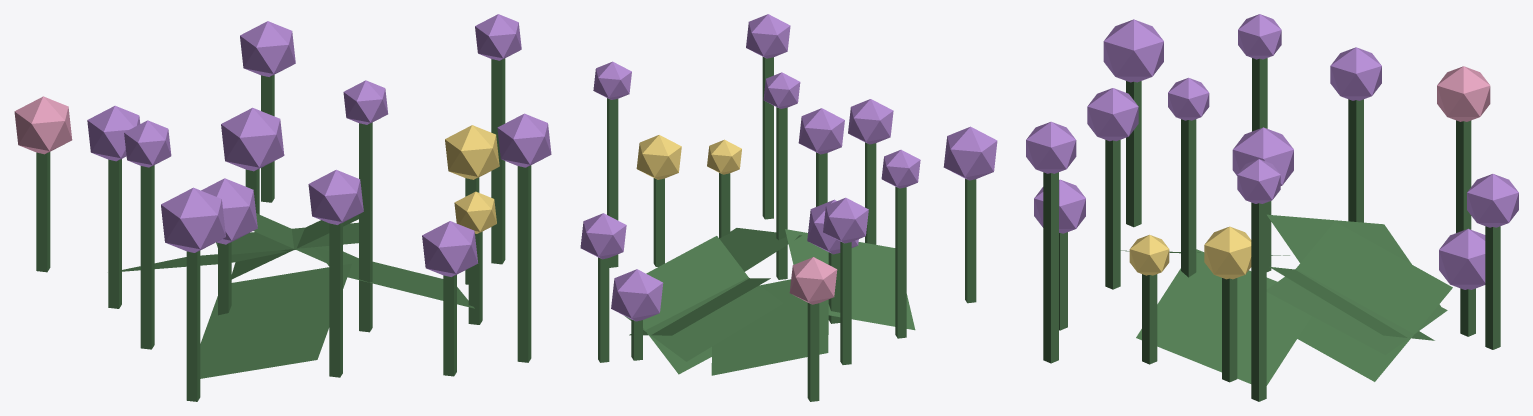
Rendered from flowers.glb.
The picture shows the model from 3 angles, left to right: view 1: azimuth 30°, elevation 25°; view 2: azimuth 150°, elevation 25°; view 3: azimuth 270°, elevation 25°; orthographic projection. The views are drawn at different scales.
Visible parts, largest first — view 1: flowers; view 2: flowers; view 3: flowers.
Part boxes in pixels (left/top/right/bottom): flowers: left=14, top=14, right=551, bottom=401; flowers: left=580, top=14, right=997, bottom=401; flowers: left=1026, top=14, right=1518, bottom=401.
Bounding box in the file's own units: 0.7252 × 0.4521 × 0.7642.
